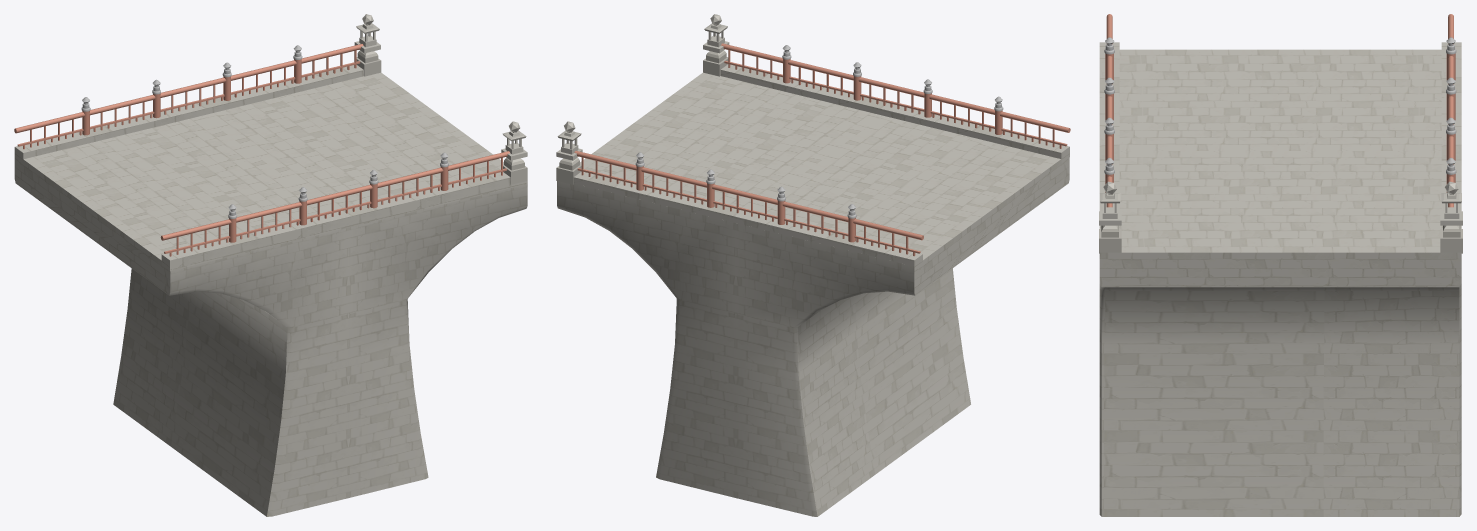
The model's file is Bridge.fbx.
3 views of the same model, side by side, from view 1: azimuth 30°, elevation 25°; view 2: azimuth 150°, elevation 25°; view 3: azimuth 270°, elevation 25° (orthographic). The views are drawn at different scales.
Visible parts, largest first — view 1: Box104.001; view 2: Box104.001; view 3: Box104.001.
Boxes of the visible parts, left/top/right/bottom form: Box104.001: left=14, top=14, right=527, bottom=516; Box104.001: left=556, top=14, right=1070, bottom=516; Box104.001: left=1099, top=14, right=1462, bottom=516.
Bounding box in the file's own units: 755 × 882 × 1008.
Materials: 3 (1 with a texture image).
